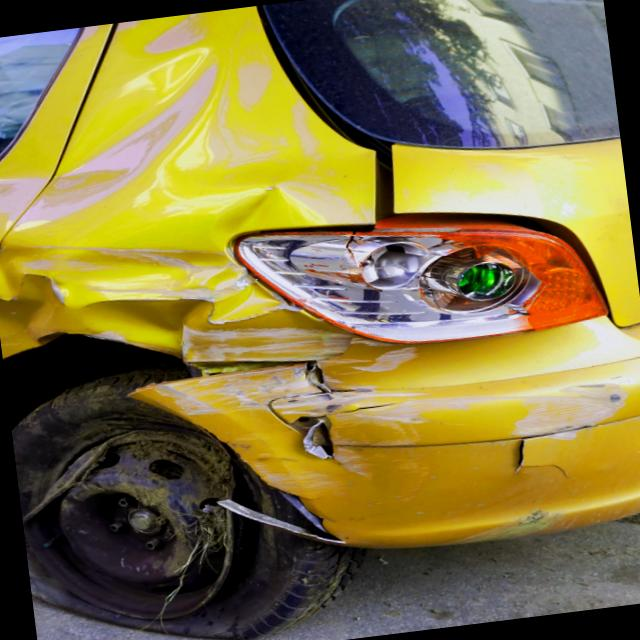Cabossage: (0, 1, 330, 358)
Dechirure: (286, 351, 368, 491)
Phare abime: (234, 177, 605, 371)
Rayure: (0, 209, 416, 526), (504, 376, 639, 472)
